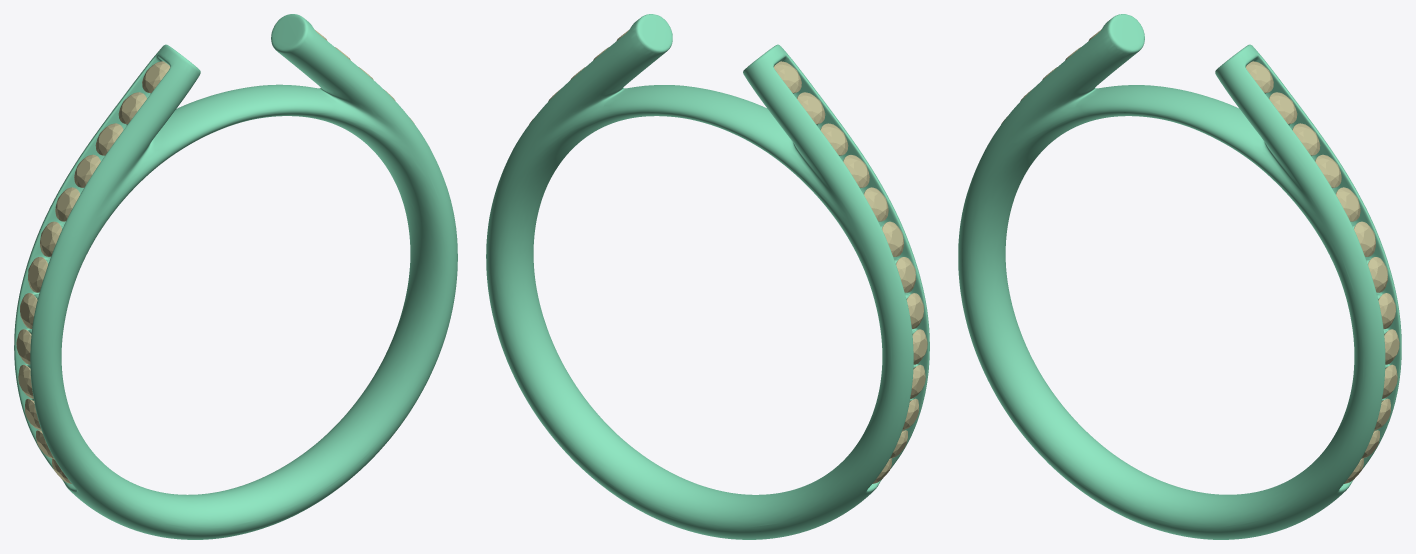
3 views of the same model, side by side, from view 1: azimuth 30°, elevation 25°; view 2: azimuth 150°, elevation 25°; view 3: azimuth 330°, elevation 25° (orthographic).
Parts seen in each view (by area): view 1: Metal02, Diamond_Gem.005, Diamond_Gem.006, Diamond_Gem.008, Diamond_Gem.007, Diamond_Gem.004, Diamond_Gem.009; view 2: Metal02, Diamond_Gem.005, Diamond_Gem.006, Diamond_Gem.007, Diamond_Gem.008, Diamond_Gem.009, Diamond_Gem.004; view 3: Metal02, Diamond_Gem.020, Diamond_Gem.019, Diamond_Gem.017, Diamond_Gem.018, Diamond_Gem.016, Diamond_Gem.021.
Boxes of the visible parts, x1,y1,x2,y2 form: Metal02: (14,14,457,539); Diamond_Gem.005: (55,187,79,221); Diamond_Gem.006: (74,154,100,187); Diamond_Gem.008: (118,92,146,124); Diamond_Gem.007: (95,123,123,155); Diamond_Gem.004: (40,221,61,256); Diamond_Gem.009: (142,61,170,93); Metal02: (486,14,929,539); Diamond_Gem.005: (864,187,888,221); Diamond_Gem.006: (843,155,869,187); Diamond_Gem.007: (820,123,848,155); Diamond_Gem.008: (797,92,825,124); Diamond_Gem.009: (774,61,801,93); Diamond_Gem.004: (882,221,903,256); Metal02: (958,14,1401,539); Diamond_Gem.020: (1336,187,1360,221); Diamond_Gem.019: (1315,154,1341,187); Diamond_Gem.017: (1269,92,1297,124); Diamond_Gem.018: (1292,123,1320,155); Diamond_Gem.016: (1245,61,1273,93); Diamond_Gem.021: (1354,221,1375,256).
Size of the model in its own units: 20.75 by 22.99 by 2.5.
